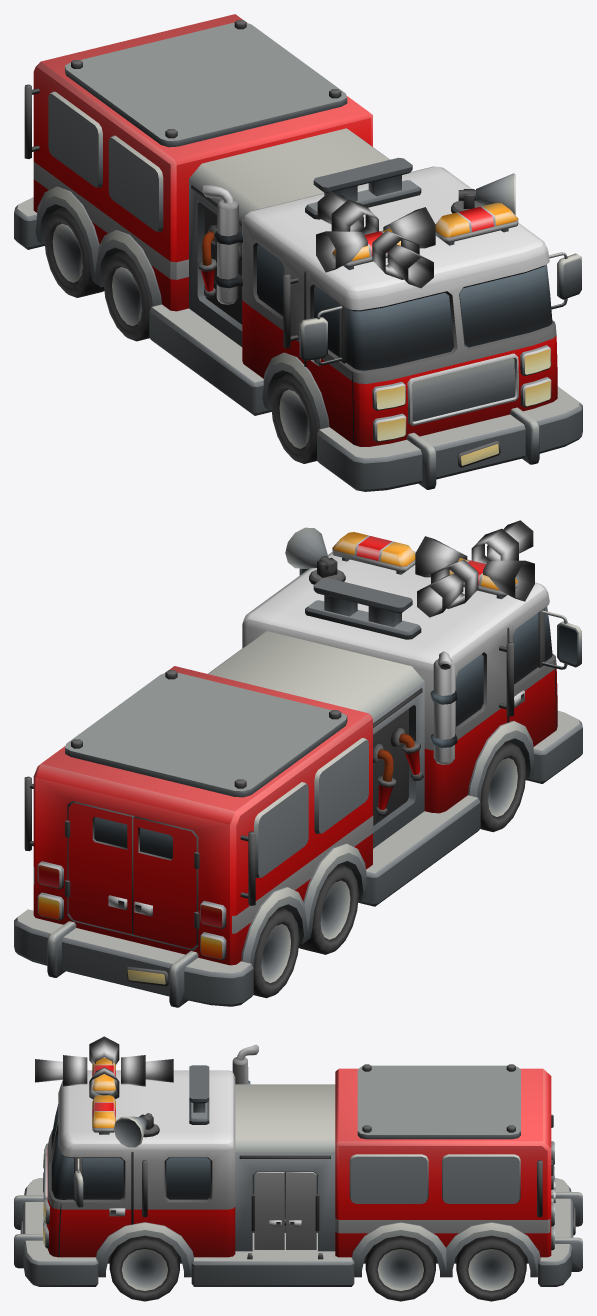
Rendered from Car_11A.fbx.
3 views of the same model, one above another, from view 1: azimuth 30°, elevation 25°; view 2: azimuth 150°, elevation 25°; view 3: azimuth 270°, elevation 25° (orthographic). The views are drawn at different scales.
Visible parts, largest first — view 1: Car_11A, Light_Red_1, Wheel_11A_R.R, Wheel_11A_M.R, Wheel_11A_F.R, Siren; view 2: Car_11A, Door_11A_R.L, Door_11A_R.R, Light_Red_1, Wheel_11A_M.R, Wheel_11A_R.R, Wheel_11A_F.R, Siren; view 3: Car_11A, Light_Red_1, Wheel_11A_R.L, Wheel_11A_M.L, Wheel_11A_F.L, Door_11A_M1.L, Door_11A_M2.L, Siren.
Part boxes in pixels (left/top/right/bottom): Car_11A: left=14, top=14, right=582, bottom=491; Light_Red_1: left=316, top=191, right=435, bottom=288; Wheel_11A_R.R: left=44, top=207, right=104, bottom=297; Wheel_11A_M.R: left=103, top=250, right=149, bottom=341; Wheel_11A_F.R: left=271, top=373, right=316, bottom=463; Siren: left=451, top=173, right=515, bottom=214; Car_11A: left=14, top=532, right=582, bottom=1007; Door_11A_R.L: left=65, top=801, right=134, bottom=934; Door_11A_R.R: left=133, top=816, right=199, bottom=948; Light_Red_1: left=415, top=520, right=534, bottom=617; Wheel_11A_M.R: left=298, top=864, right=358, bottom=954; Wheel_11A_R.R: left=253, top=907, right=299, bottom=998; Wheel_11A_F.R: left=480, top=741, right=526, bottom=832; Siren: left=285, top=527, right=345, bottom=584; Car_11A: left=14, top=1044, right=582, bottom=1286; Light_Red_1: left=35, top=1036, right=173, bottom=1099; Wheel_11A_R.L: left=456, top=1235, right=526, bottom=1301; Wheel_11A_M.L: left=365, top=1235, right=435, bottom=1301; Wheel_11A_F.L: left=109, top=1235, right=179, bottom=1301; Door_11A_M1.L: left=251, top=1172, right=284, bottom=1249; Door_11A_M2.L: left=286, top=1172, right=319, bottom=1249; Siren: left=113, top=1113, right=159, bottom=1147.
Size of the model in its own units: 384 by 324 by 883.
